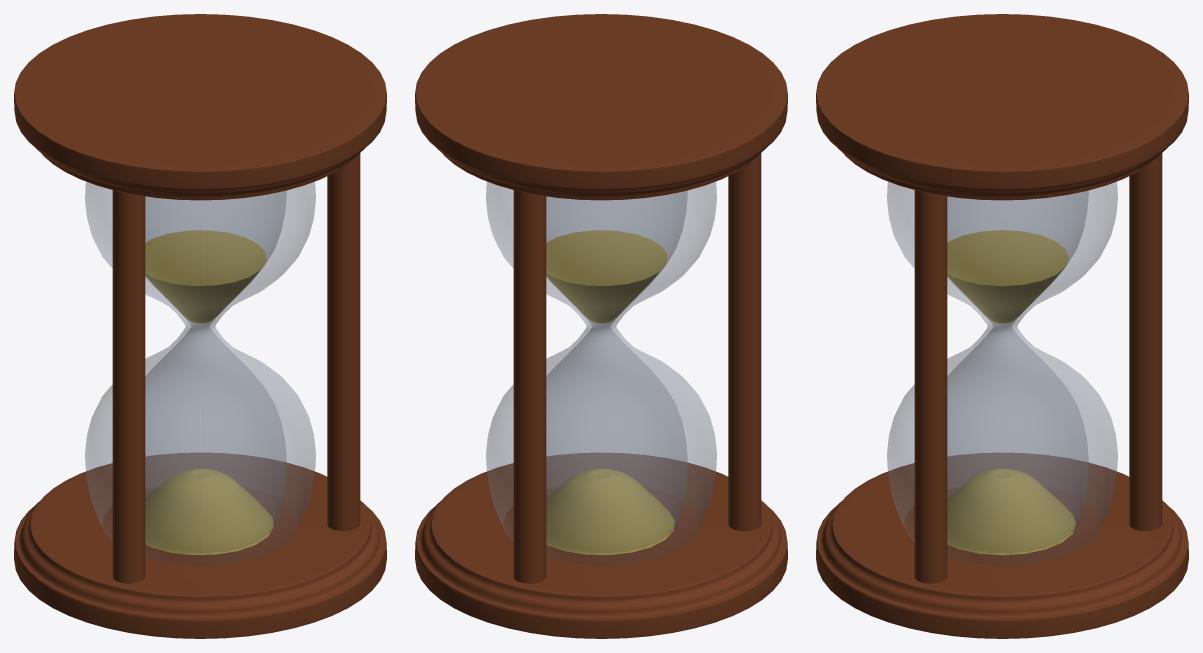
Rendered from Hourglass.fbx.
3 renders of one model, left to right at view 1: azimuth 30°, elevation 25°; view 2: azimuth 150°, elevation 25°; view 3: azimuth 270°, elevation 25°, orthographic.
Visible parts, largest first — view 1: Bases, OuterGlass, InnerGlass, Pillar1, Pillar2, BottomSand, TopSand; view 2: Bases, OuterGlass, InnerGlass, Pillar, Pillar1, BottomSand, TopSand; view 3: Bases, OuterGlass, InnerGlass, Pillar2, Pillar, BottomSand, TopSand.
Boxes of the visible parts, x1=… form: Bases: x1=14, y1=14, x2=386, y2=638; OuterGlass: x1=85, y1=182, x2=315, y2=564; InnerGlass: x1=145, y1=191, x2=286, y2=552; Pillar1: x1=112, y1=190, x2=145, y2=583; Pillar2: x1=327, y1=153, x2=360, y2=531; BottomSand: x1=145, y1=468, x2=273, y2=554; TopSand: x1=145, y1=230, x2=266, y2=323; Bases: x1=415, y1=14, x2=787, y2=638; OuterGlass: x1=486, y1=182, x2=716, y2=564; InnerGlass: x1=546, y1=191, x2=687, y2=552; Pillar: x1=513, y1=190, x2=546, y2=583; Pillar1: x1=728, y1=153, x2=761, y2=531; BottomSand: x1=546, y1=468, x2=674, y2=554; TopSand: x1=546, y1=230, x2=667, y2=323; Bases: x1=816, y1=14, x2=1188, y2=638; OuterGlass: x1=887, y1=182, x2=1117, y2=564; InnerGlass: x1=947, y1=191, x2=1088, y2=552; Pillar2: x1=914, y1=190, x2=947, y2=583; Pillar: x1=1129, y1=153, x2=1162, y2=531; BottomSand: x1=947, y1=468, x2=1075, y2=555; TopSand: x1=947, y1=230, x2=1068, y2=323.
Bounding box in the file's own units: 10.53 × 14.59 × 10.53.
